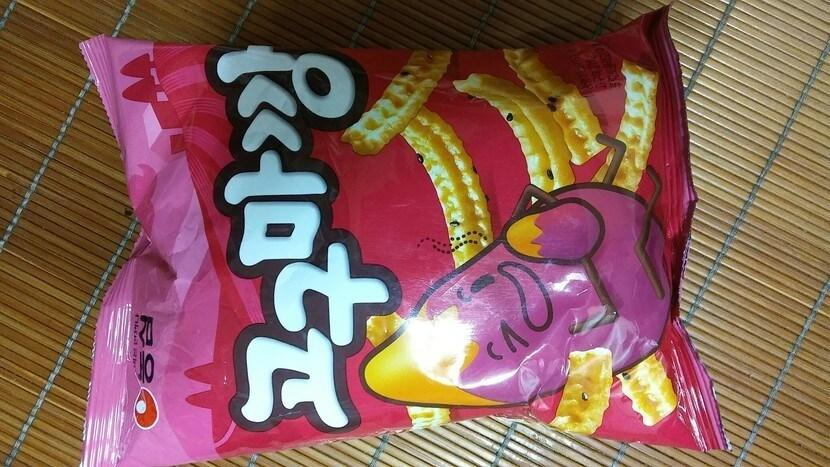snack: (77, 0, 735, 467)
